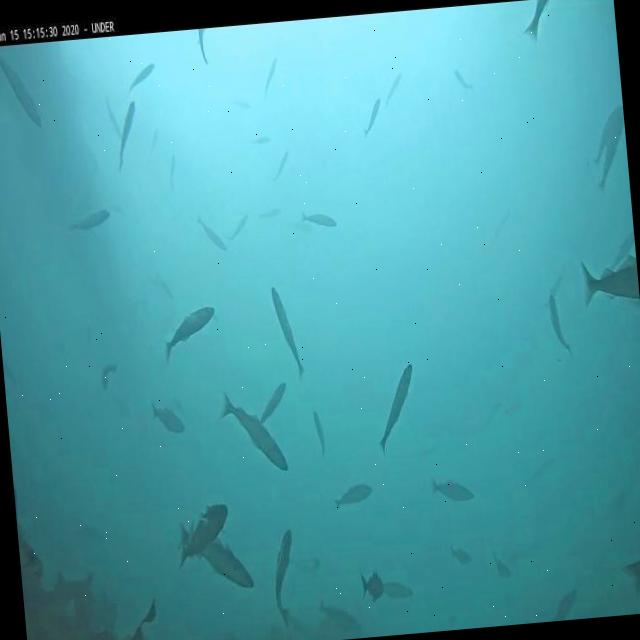fish: (219, 389, 289, 474), (369, 363, 420, 457), (159, 305, 221, 364), (0, 45, 43, 130), (176, 501, 232, 566), (202, 532, 258, 594), (270, 287, 306, 383), (268, 530, 304, 626), (578, 258, 640, 310), (593, 113, 629, 194), (589, 103, 626, 167), (111, 100, 140, 170), (319, 596, 364, 640), (546, 294, 572, 360), (253, 380, 290, 426), (520, 0, 552, 43), (195, 210, 227, 252), (152, 398, 186, 436), (432, 472, 472, 504), (620, 532, 640, 594), (68, 208, 112, 232), (333, 485, 373, 511), (362, 96, 384, 137), (124, 64, 155, 92), (104, 94, 123, 138), (360, 568, 386, 600), (382, 71, 404, 105), (261, 57, 280, 96), (554, 590, 580, 618), (301, 210, 336, 230), (382, 580, 413, 601), (448, 542, 472, 567), (312, 408, 324, 456), (226, 216, 248, 241), (492, 551, 512, 578), (274, 148, 292, 178), (98, 362, 118, 388), (198, 29, 210, 65), (452, 68, 472, 88), (167, 156, 178, 191), (257, 208, 282, 222), (251, 136, 269, 144)
